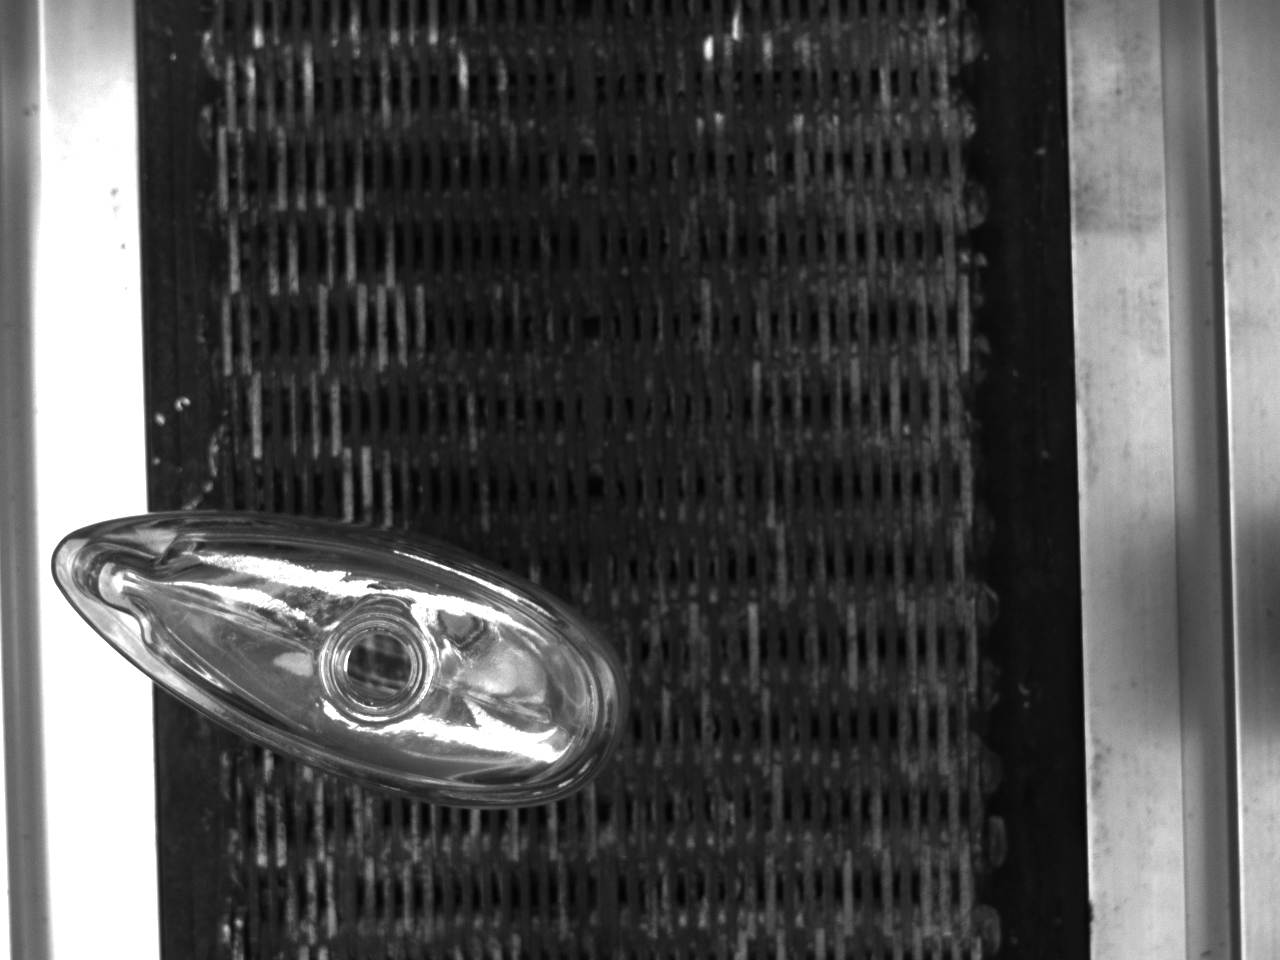bottleneck: (322, 612, 434, 724)
